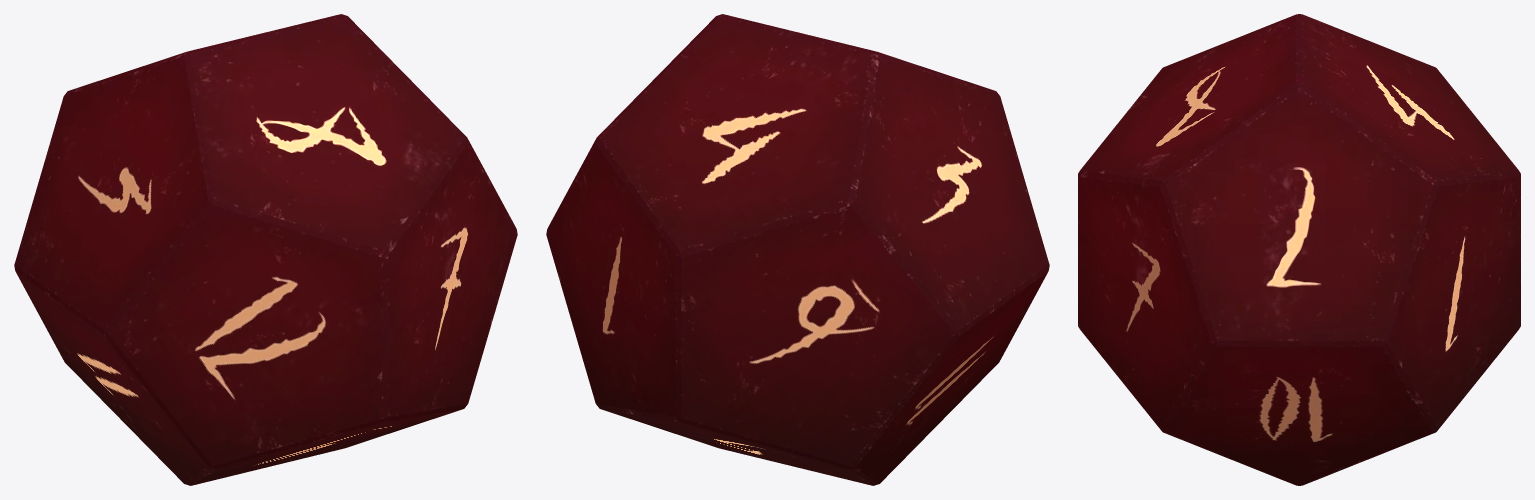
The model's file is DragonGem_d12.gltf.
3 views of the same model, side by side, from view 1: azimuth 30°, elevation 25°; view 2: azimuth 150°, elevation 25°; view 3: azimuth 270°, elevation 25° (orthographic). The views are drawn at different scales.
Visible parts, largest first — view 1: dragongem_d12; view 2: dragongem_d12; view 3: dragongem_d12.
Boxes of the visible parts, x1,y1,x2,y2 form: dragongem_d12: (14,14,517,485); dragongem_d12: (546,14,1049,485); dragongem_d12: (1078,14,1520,485).
Size of the model in its own units: 167 by 167 by 167.
1 material, 1 textured.
